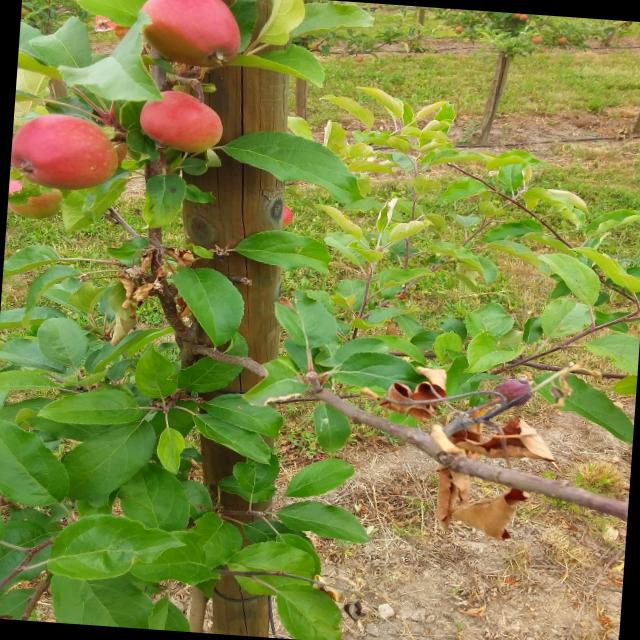-FireBlight-: (384, 361, 558, 540)
